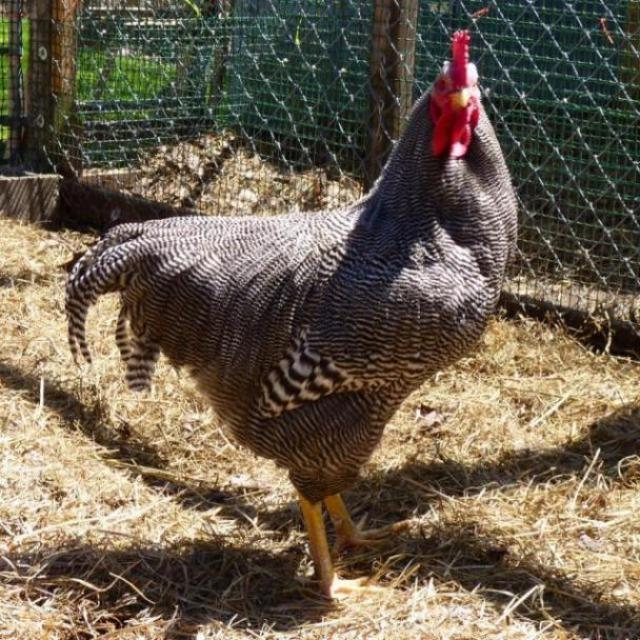Chicken: (52, 31, 512, 589)
